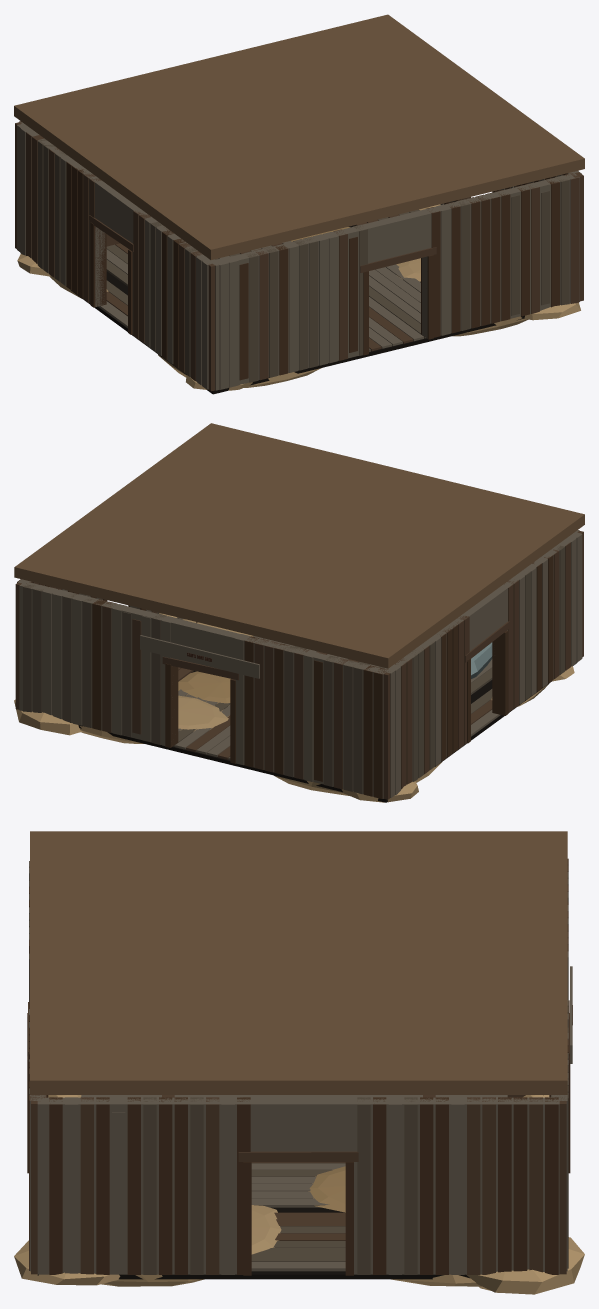
The model's file is TownBldg_boatshed.glb.
The picture shows the model from 3 angles, top to bottom: view 1: azimuth 30°, elevation 25°; view 2: azimuth 150°, elevation 25°; view 3: azimuth 270°, elevation 25°; orthographic projection. The views are drawn at different scales.
Parts seen in each view (by area): view 1: TownBldg_boatshed.001; view 2: TownBldg_boatshed.001; view 3: TownBldg_boatshed.001.
Boxes of the visible parts, <box> form: TownBldg_boatshed.001: <box>14,14,584,394</box>; TownBldg_boatshed.001: <box>14,423,584,802</box>; TownBldg_boatshed.001: <box>14,831,584,1294</box>.
Size of the model in its own units: 11.91 by 4.68 by 10.94.
